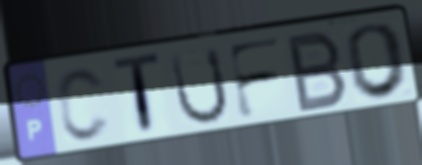B: (286, 27, 351, 116)
C: (54, 65, 114, 145)
F: (224, 34, 285, 123)
O: (344, 20, 413, 102)
T: (111, 49, 163, 140)
U: (168, 44, 232, 129)
